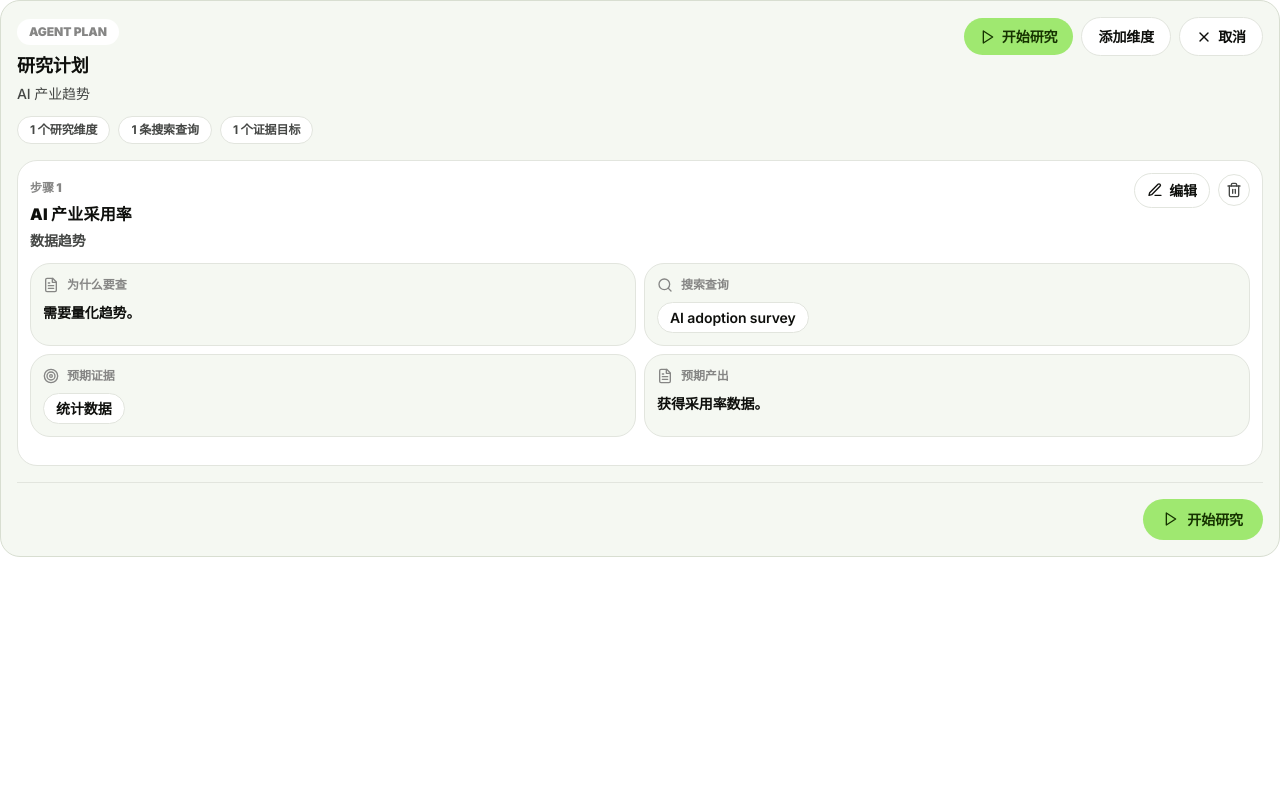
Test: opens one plan step for editing on demand
The image size is (1280, 800).
expect the field labelled "标题" is not shown: met
Click the button with aria-label "编辑步骤 1": (1172,190) x1=1134 y1=173 x2=1210 y2=208
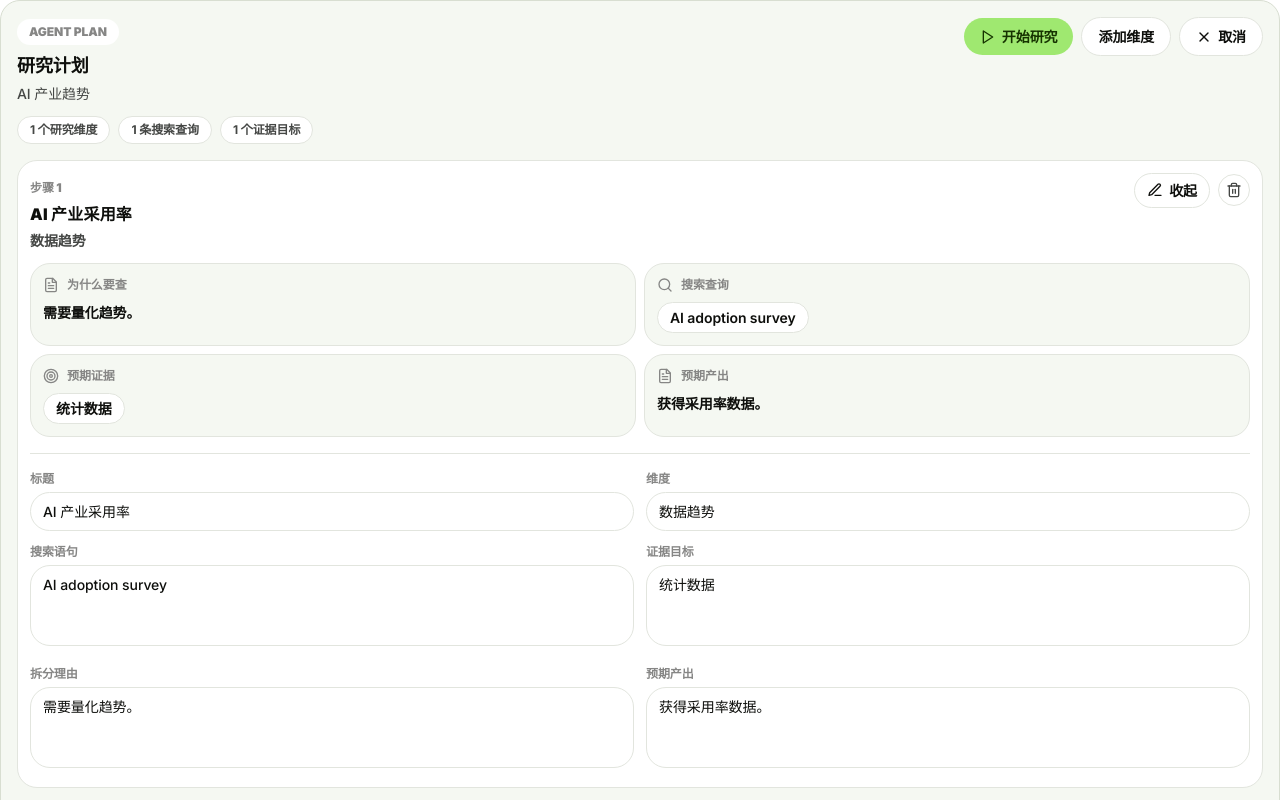
expect the field labelled "标题" holds "AI 产业采用率": met, box x1=30 y1=492 x2=634 y2=531
expect the text box labelled "搜索语句" holds "AI adoption survey": met, box x1=30 y1=565 x2=634 y2=646
